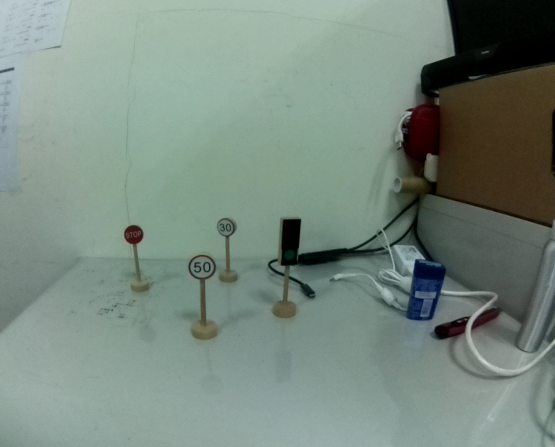Green: (276, 214, 302, 266)
Speed30: (215, 216, 238, 236)
Speed50: (187, 254, 218, 280)
Stop: (122, 224, 147, 247)
